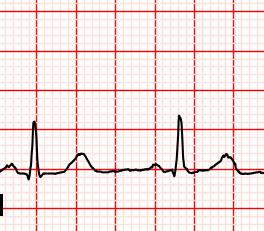LVH: (61, 152, 109, 179)
